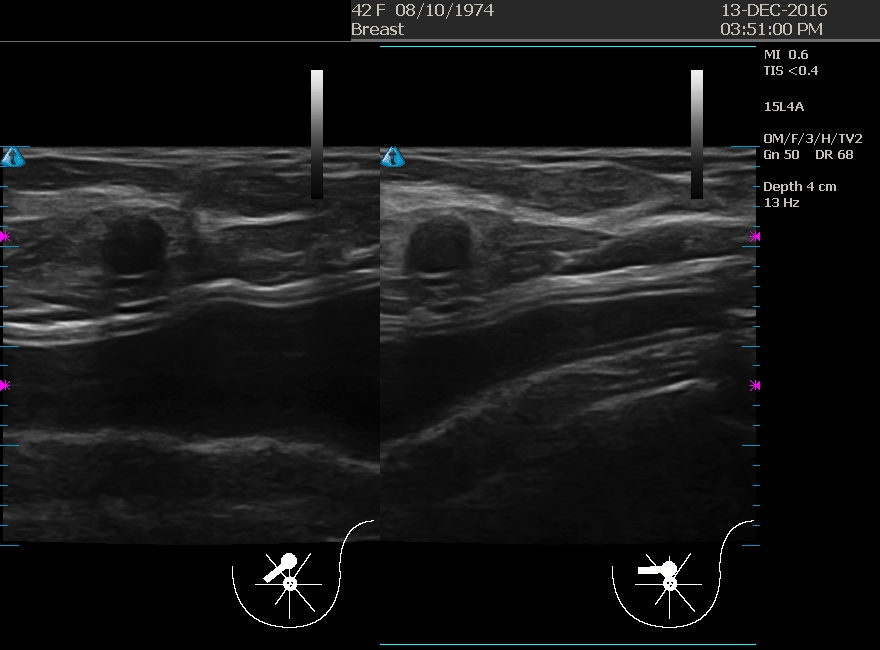BIRADS_2: (87, 149, 287, 349), (390, 198, 590, 398)
